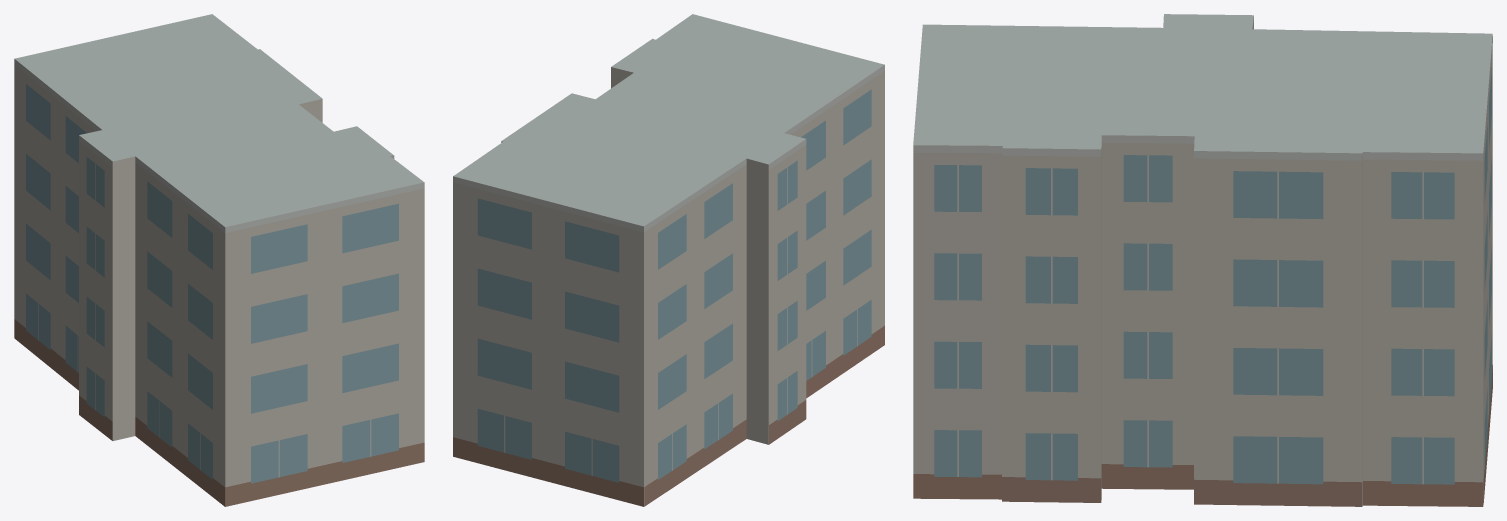
Rendered from survey-upis-32964265.glb.
3 renders of one model, left to right at view 1: azimuth 30°, elevation 25°; view 2: azimuth 150°, elevation 25°; view 3: azimuth 270°, elevation 25°, orthographic. The views are drawn at different scales.
Parts seen in each view (by area): view 1: survey-upis-32964265.tmp; view 2: survey-upis-32964265.tmp; view 3: survey-upis-32964265.tmp.
Part boxes in pixels (x1=…): survey-upis-32964265.tmp: x1=14, y1=14, x2=424, y2=506; survey-upis-32964265.tmp: x1=453, y1=14, x2=884, y2=506; survey-upis-32964265.tmp: x1=913, y1=14, x2=1492, y2=506.
Bounding box in the file's own units: 9.9 × 11.7 × 17.4.
